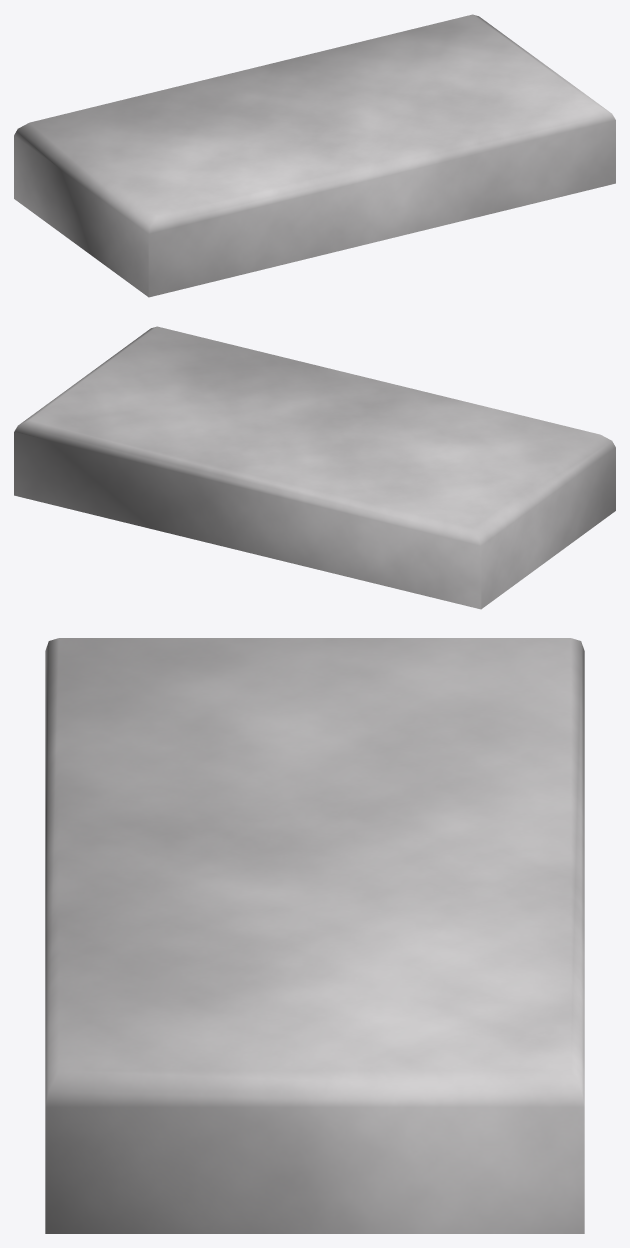
The model's file is Sidewalkway.FBX.
3 renders of one model, top to bottom at view 1: azimuth 30°, elevation 25°; view 2: azimuth 150°, elevation 25°; view 3: azimuth 270°, elevation 25°, orthographic. The views are drawn at different scales.
Visible parts, largest first — view 1: Box001; view 2: Box001; view 3: Box001.
Boxes of the visible parts, box(x1,y1,x2,y2) form: Box001: box(14, 14, 615, 297); Box001: box(14, 326, 615, 609); Box001: box(45, 638, 584, 1233).
Size of the model in its own units: 39.37 by 6.1 by 19.68.
Materials: 1 (1 with a texture image).
